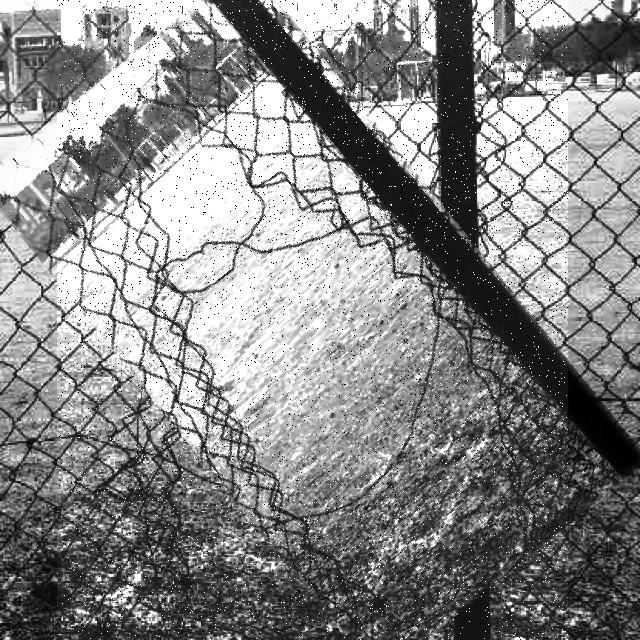anomaly-fence: (57, 0, 568, 640)
